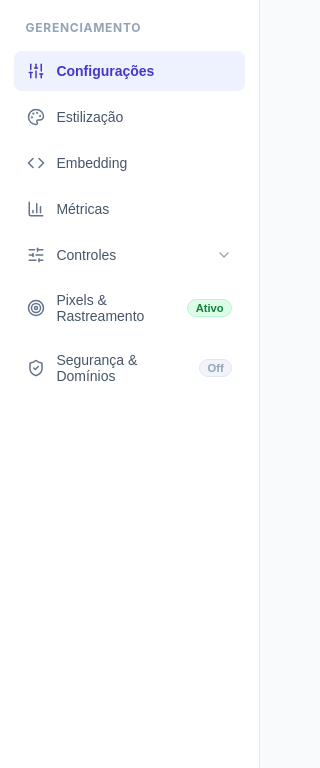
Test: VideoDetailSidebar - Grupo de Controles Expansível › ao clicar em Controles, abre o submenu exibindo Turbo, Smart Autoplay, Player Flutuante e Conteúdo Oculto
What coordinates should you click on to do the following:
click the button with test id "tab-btn-controls"
I would click on:
 (130, 255)
Its box is [14,235,245,275].
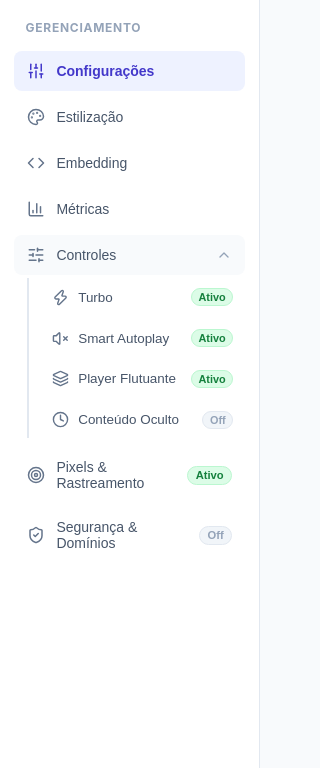
Result: the element with test id "controls-submenu" is shown at [27,278,245,438]
Result: the button with test id "tab-btn-turbo" shows "Turbo" at [40,278,245,316]
Result: the button with test id "tab-btn-smart_autoplay" shows "Smart Autoplay" at [40,319,245,357]
